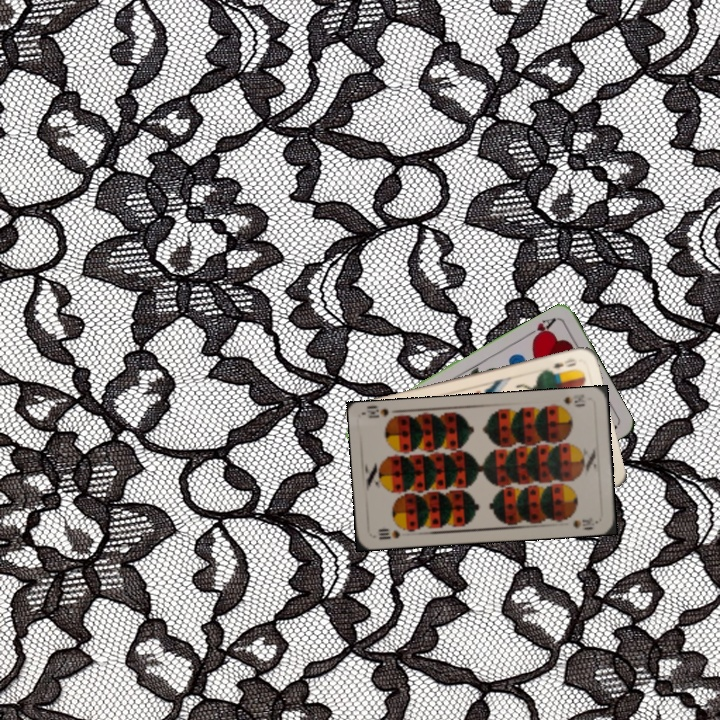EO: (548, 354, 580, 371)
HA: (522, 313, 559, 343)
S10: (551, 390, 587, 411), (374, 524, 403, 542)
